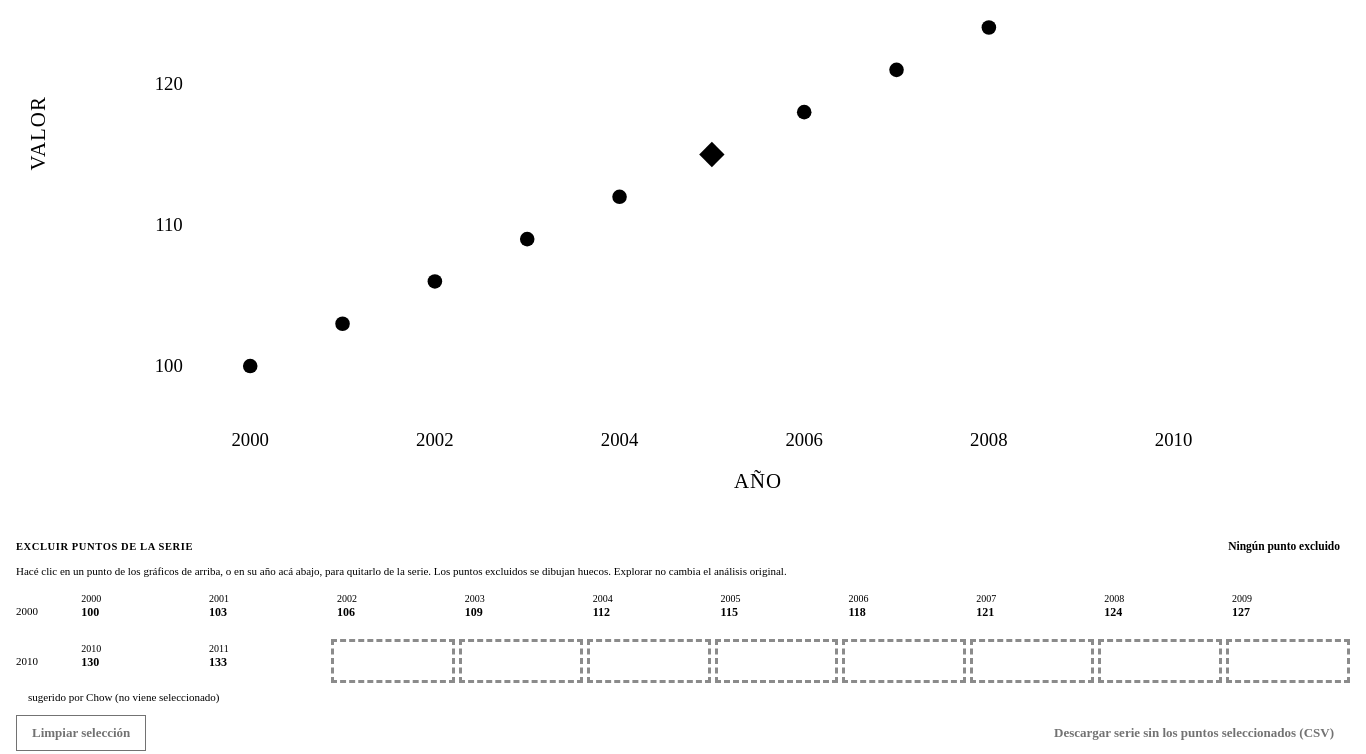
Test: Etapa1GraficosView — exclusión de puntos › carga diaria: lo descargado son máximos anuales
The image size is (1366, 754).
(page scrolled)
Click the button "2000 100". click: coordinates (137, 611)
box: [75,589,199,633]
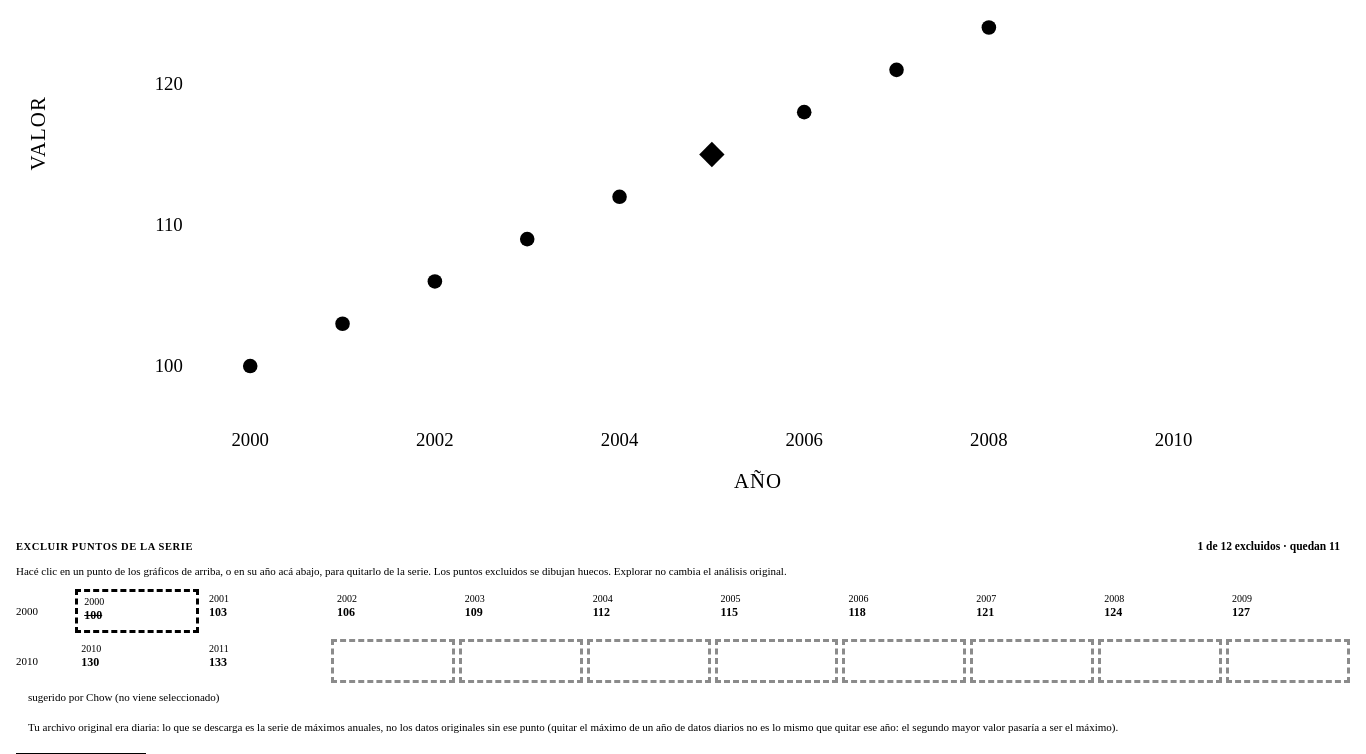
Check: the text "Tu archivo original era diaria" is shown, box [28,721,1118,733]
